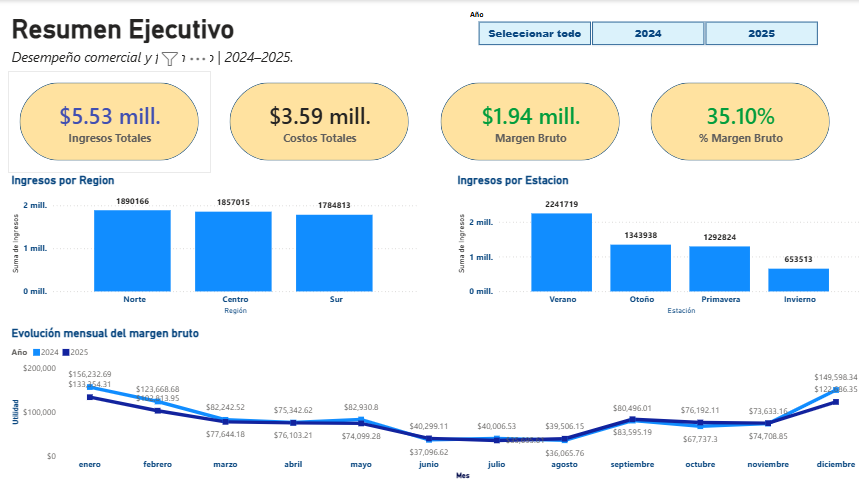

Layout of this report page (visuals, bound fields, positions):
{"tool":"powerbi","page":{"name":"Reporte General","canvas":[1280,720],"ordinal":0},"visuals":[{"type":"textbox","title":"Resumen Ejecutivo","box":[22.8,19.7,652.9,85],"z":0},{"type":"cardVisual","fields":{"Data":["Andes_Retail_Group_2024_2025.Ingresos Totales"]},"box":[23.7,104.1,296.3,149],"z":1000},{"type":"slicer","fields":{"Values":["Andes_Retail_Group_2024_2025.Fecha_Pedido.Variación.Jerarquía de fechas.Año"]},"box":[686.3,8.8,545.9,64.4],"z":2000},{"type":"cardVisual","fields":{"Data":["Andes_Retail_Group_2024_2025.Costos Totales"]},"box":[331.3,104.1,296.3,149],"z":3000},{"type":"cardVisual","fields":{"Data":["Andes_Retail_Group_2024_2025.Margen Bruto"]},"box":[638.9,104.1,296.3,149],"z":4000},{"type":"cardVisual","fields":{"Data":["Andes_Retail_Group_2024_2025.% Margen Bruto"]},"box":[946.5,104.1,296.3,149],"z":5000},{"type":"clusteredColumnChart","title":"Ingresos por Region","fields":{"Category":["Andes_Retail_Group_2024_2025.Región"],"Y":["Sum(Andes_Retail_Group_2024_2025.Ingresos)"]},"box":[23.6,253.2,603.8,212.3],"z":6000},{"type":"clusteredColumnChart","title":"Ingresos por Estacion","fields":{"Y":["Sum(Andes_Retail_Group_2024_2025.Ingresos)"],"Category":["Andes_Retail_Group_2024_2025.Estación"]},"box":[676.2,253.2,603.8,212.3],"z":7000},{"type":"lineChart","title":"Evolución mensual del margen bruto","fields":{"Category":["Andes_Retail_Group_2024_2025.Fecha_Pedido.Variación.Jerarquía de fechas.Mes"],"Series":["Andes_Retail_Group_2024_2025.Fecha_Pedido.Variación.Jerarquía de fechas.Año"],"Y":["Sum(Andes_Retail_Group_2024_2025.Utilidad General)"]},"box":[23.6,476.5,1256.4,229.6],"z":8000}]}

Visuals, with their boxes in screenshot pixels (x1, y1, x2, y2), scaled from the page's 1280x720 canvas onto the 859x487 screenshot:
"Resumen Ejecutivo" textbox: [15, 13, 453, 71]
cardVisual - Andes_Retail_Group_2024_2025.Ingresos Totales: [16, 70, 215, 171]
slicer - Andes_Retail_Group_2024_2025.Fecha_Pedido.Variación.Jerarquía de fechas.Año: [461, 6, 827, 50]
cardVisual - Andes_Retail_Group_2024_2025.Costos Totales: [222, 70, 421, 171]
cardVisual - Andes_Retail_Group_2024_2025.Margen Bruto: [429, 70, 628, 171]
cardVisual - Andes_Retail_Group_2024_2025.% Margen Bruto: [635, 70, 834, 171]
"Ingresos por Region" clusteredColumnChart: [16, 171, 421, 315]
"Ingresos por Estacion" clusteredColumnChart: [454, 171, 858, 315]
"Evolución mensual del margen bruto" lineChart: [16, 322, 858, 478]
